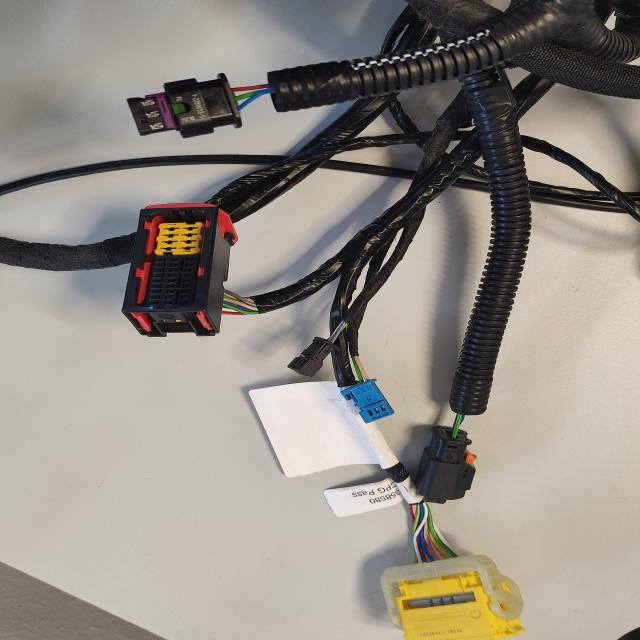cable: (205, 0, 639, 415), (0, 233, 134, 270)
connector: (122, 203, 237, 336), (381, 554, 523, 639), (128, 74, 241, 137), (411, 426, 475, 503), (287, 320, 346, 375), (340, 380, 393, 422)
label: (248, 381, 396, 477), (323, 478, 400, 517)
